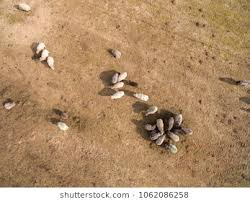sheep: (132, 91, 150, 103), (109, 91, 128, 102), (143, 105, 159, 118), (109, 47, 123, 61), (17, 1, 32, 13), (54, 120, 70, 131), (3, 99, 17, 111), (34, 41, 46, 55), (166, 141, 178, 154), (168, 131, 181, 142), (111, 82, 126, 91), (39, 49, 49, 62), (45, 56, 55, 69), (143, 122, 156, 132), (155, 134, 165, 147), (156, 118, 164, 134), (166, 116, 174, 131), (175, 113, 182, 129), (110, 72, 119, 83), (181, 128, 193, 136)
